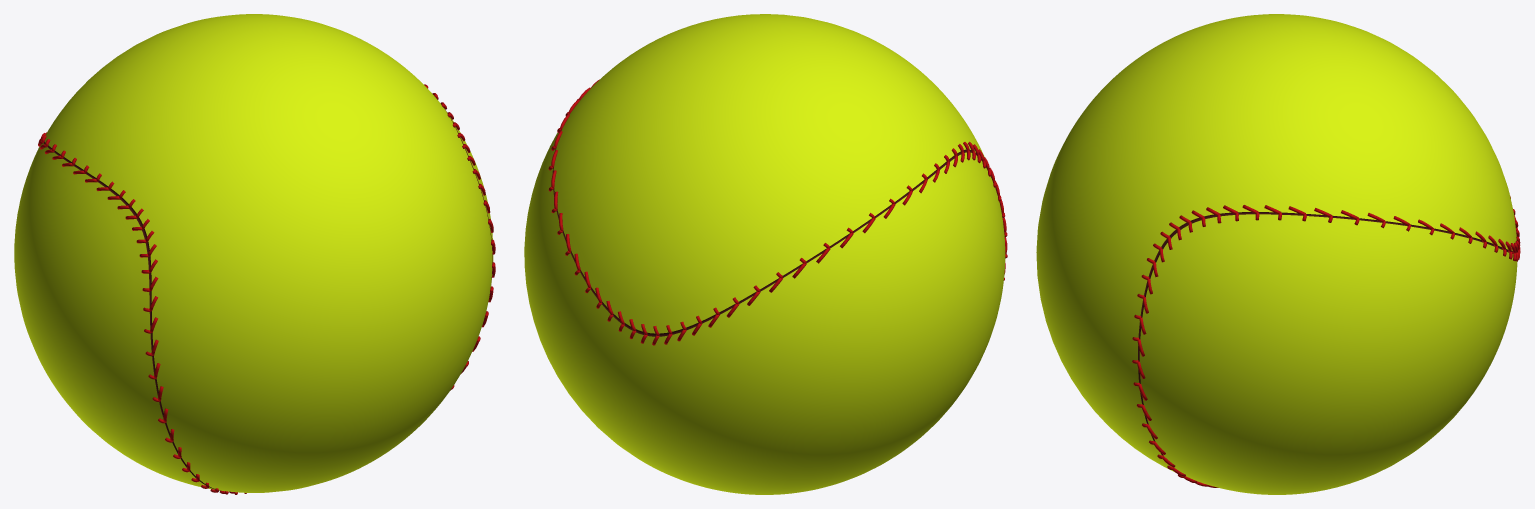
3 renders of one model, left to right at view 1: azimuth 30°, elevation 25°; view 2: azimuth 150°, elevation 25°; view 3: azimuth 270°, elevation 25°, orthographic.
Visible parts, largest first — view 1: MESH_softball; view 2: MESH_softball; view 3: MESH_softball.
Boxes of the visible parts, bbox=[...] form: MESH_softball: bbox=[14, 14, 495, 494]; MESH_softball: bbox=[524, 14, 1007, 494]; MESH_softball: bbox=[1036, 14, 1520, 494].
Bounding box in the file's own units: 0.097 × 0.0972 × 0.0977.
